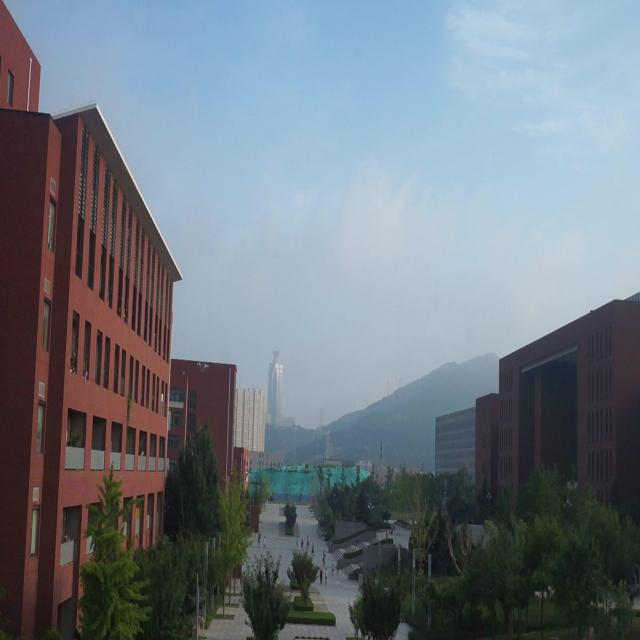drone: (195, 354, 211, 376)
